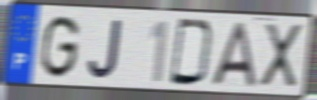1: (149, 19, 170, 84)
A: (209, 21, 258, 88)
D: (167, 16, 217, 88)
G: (38, 14, 82, 81)
J: (86, 17, 124, 81)
X: (259, 21, 304, 90)
